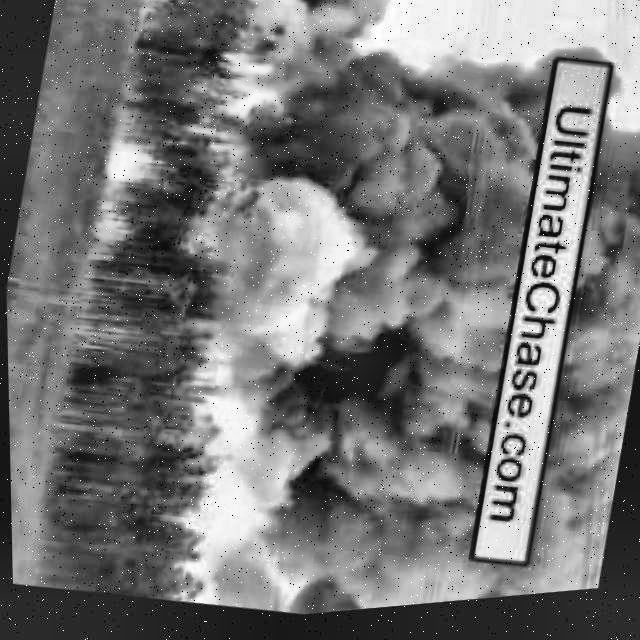Fire: (206, 45, 306, 166), (103, 139, 161, 193), (90, 209, 132, 247), (138, 0, 187, 26)
Smoke: (139, 0, 574, 630), (513, 112, 640, 604)
